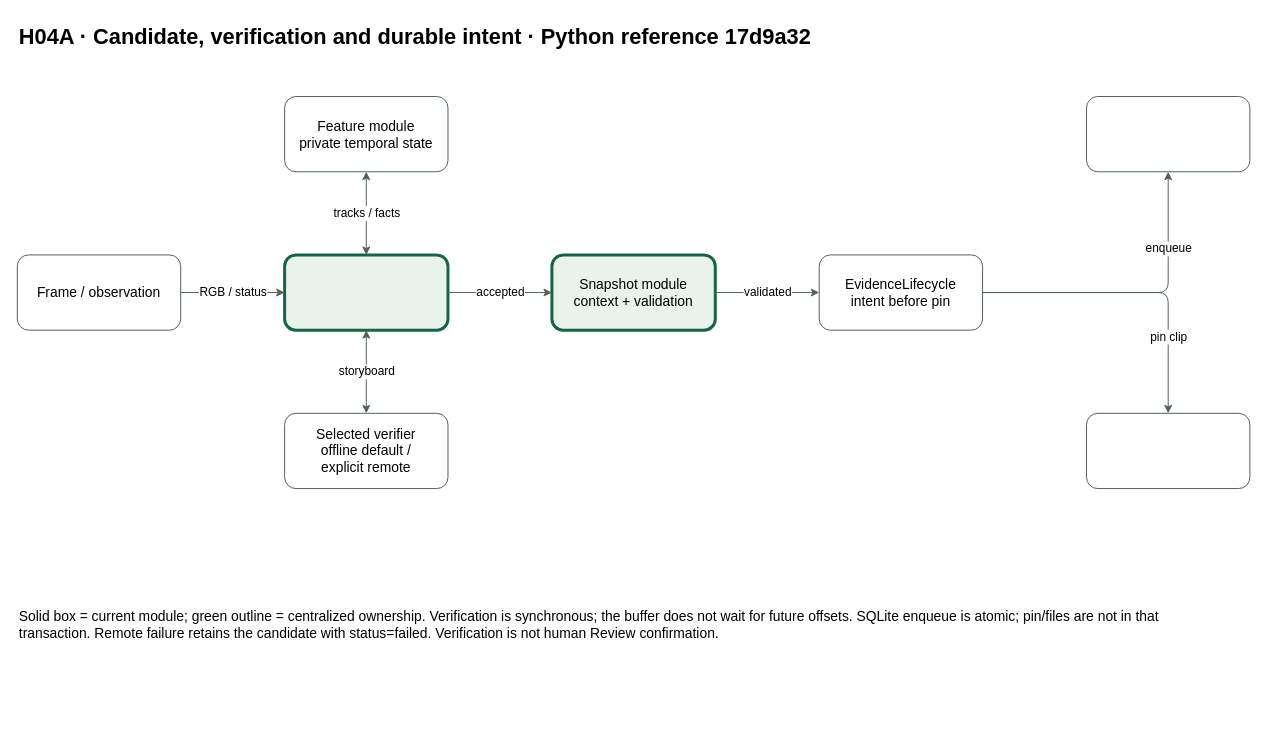
This 1267x729 diagram has some shape labels left out. The centre of each missing label's shape, as x and y in pixels:
"PerceptionPipeline records storyboard / dispatches" goes at pixel 366 292.
"Recorder pin / files separate I/O after commit" goes at pixel 1168 450.
"SQLite revision + outbox + intent" goes at pixel 1168 134.
